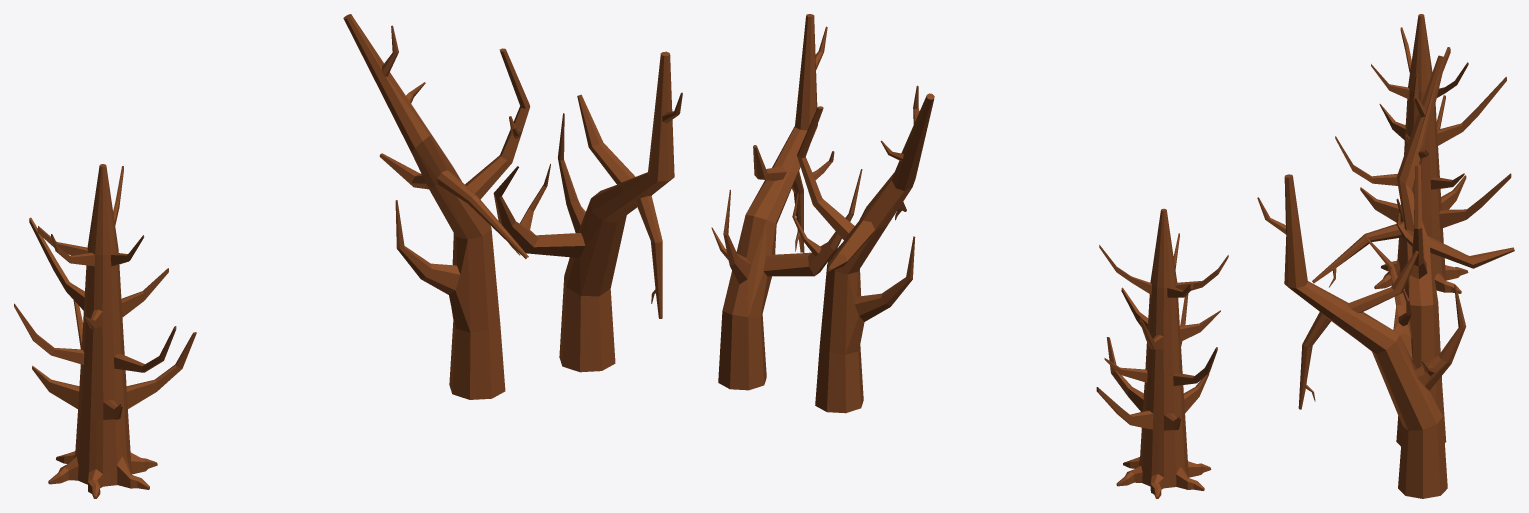
Rendered from Arvore.fbx.
3 views of the same model, side by side, from view 1: azimuth 30°, elevation 25°; view 2: azimuth 150°, elevation 25°; view 3: azimuth 270°, elevation 25° (orthographic). The views are drawn at different scales.
Parts seen in each view (by area): view 1: Circle.002, Circle, Circle.001; view 2: Circle.001, Circle.002, Circle; view 3: Circle.001, Circle, Circle.002.
Boxes of the visible parts, box(x1,y1,x2,y2) form: Circle.002: box(14, 164, 196, 498); Circle: box(343, 14, 530, 399); Circle.001: box(493, 51, 682, 372); Circle.001: box(711, 14, 862, 390); Circle.002: box(1096, 208, 1228, 498); Circle: box(797, 85, 934, 413); Circle.001: box(1257, 174, 1466, 498); Circle: box(1312, 55, 1514, 446); Circle.002: box(1335, 14, 1511, 293).
Bounding box in the file's own units: 2375 × 1494 × 1032.
